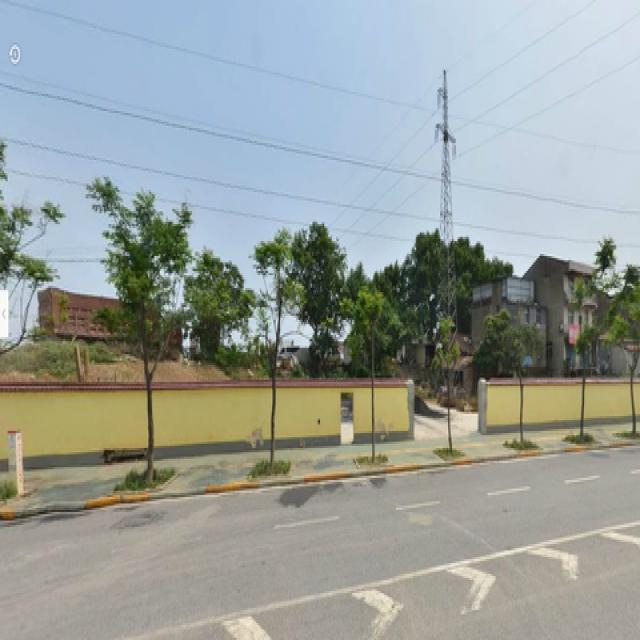koel: (104, 185, 176, 492), (253, 237, 295, 471)
